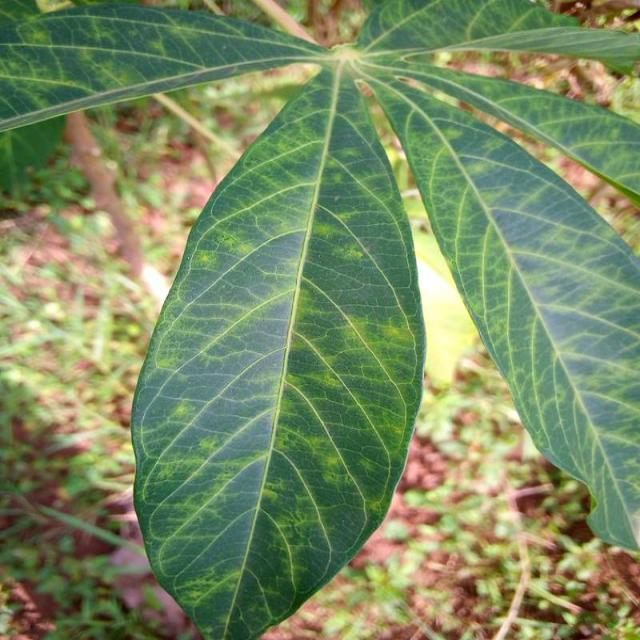cassava leaf: (129, 62, 427, 638), (359, 63, 639, 555)
